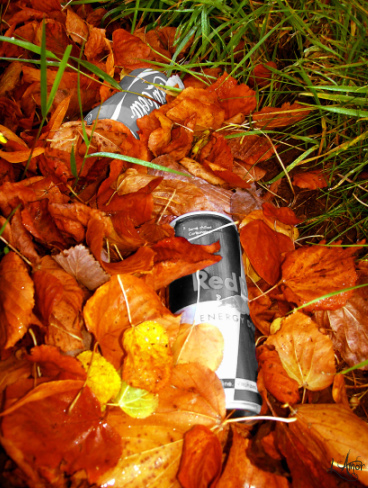litter: (164, 209, 262, 416), (83, 64, 172, 141)
